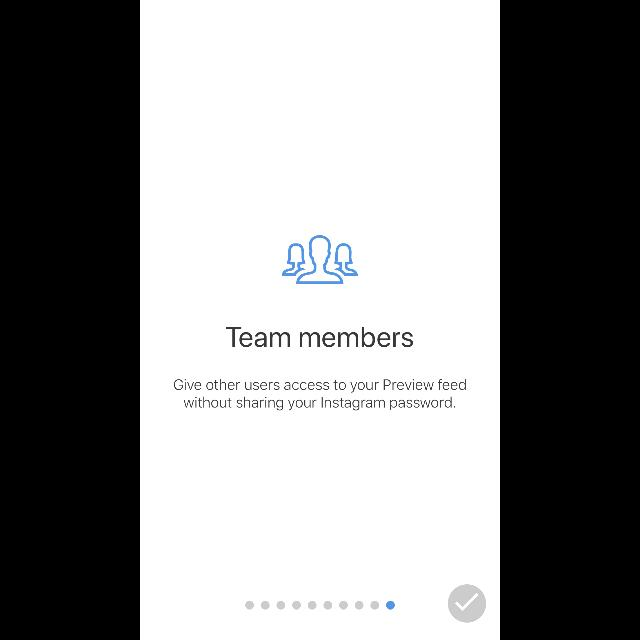icon: (282, 236, 358, 284), (448, 584, 486, 622)
pageindicator: (246, 601, 394, 609)
text: (174, 378, 466, 409), (225, 327, 412, 347)
